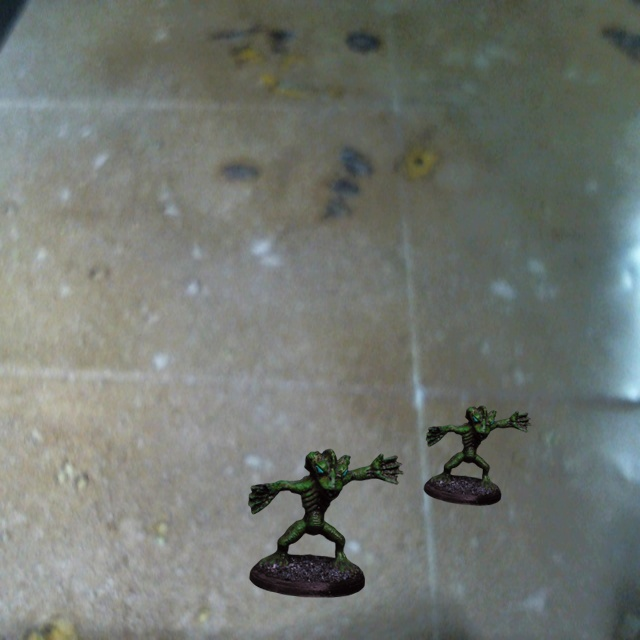pieza_juego: (248, 449, 403, 597), (424, 405, 531, 505)
